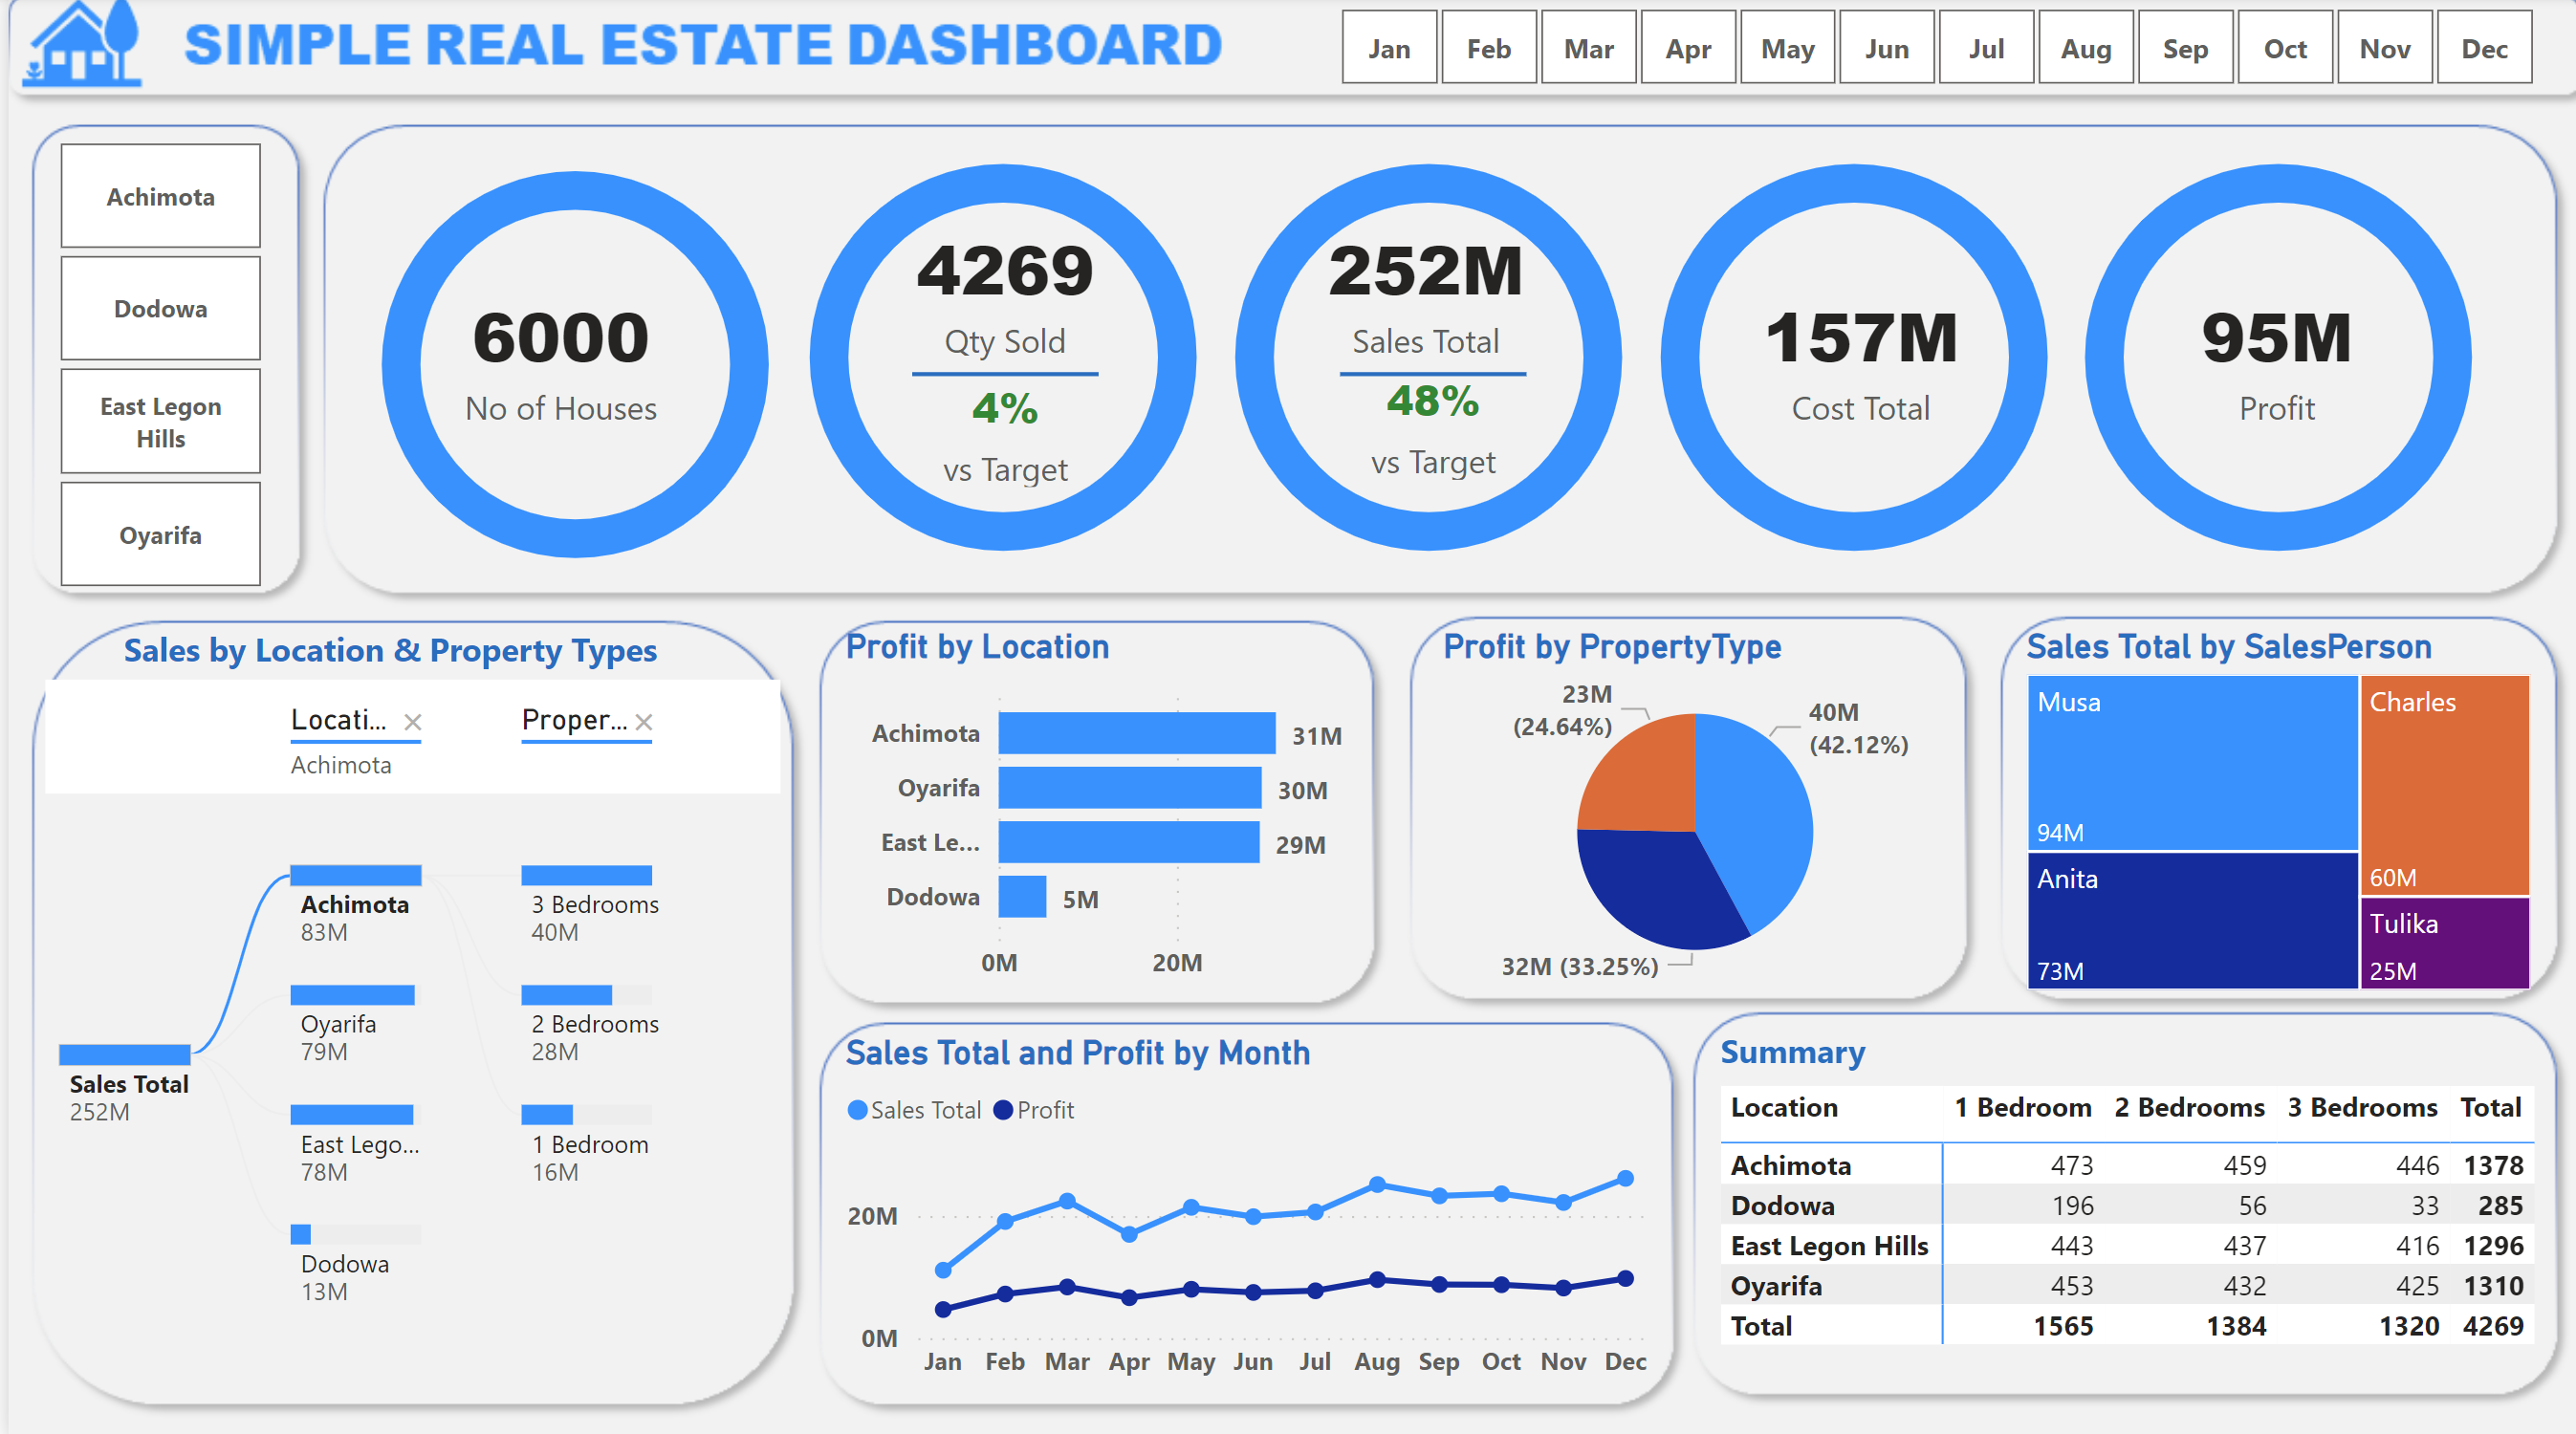

What the dashboard file says about the page in this screenshot:
{"tool":"powerbi","page":{"name":"Page 1","canvas":[1280,720],"ordinal":0},"visuals":[{"type":"slicer","fields":{"Values":["Location.Location"]},"box":[8.5,66.6,144.6,235.3],"z":0},{"type":"slicer","fields":{"Values":["Calender.Month"]},"box":[612.9,0,667.1,47.4],"z":1000},{"type":"donutChart","fields":{"Y":["All Measures.No of Houses"]},"box":[141.7,48.2,282,265],"z":2000},{"type":"card","fields":{"Values":["All Measures.No of Houses"]},"box":[147.4,56.7,260.8,238.1],"z":3000},{"type":"donutChart","fields":{"Y":["All Measures.Qty Sold","All Measures.Qty to Target"]},"box":[358.6,46.8,282,265],"z":4000},{"type":"donutChart","fields":{"Y":["All Measures.Sales Total","All Measures.Sales to Target"]},"box":[575.9,44.6,282.2,266.4],"z":5000},{"type":"donutChart","fields":{"Y":["All Measures.No of Houses"]},"box":[783.8,48.2,282,265],"z":6000},{"type":"donutChart","fields":{"Y":["All Measures.No of Houses"]},"box":[998,52.4,282,265],"z":7000},{"type":"card","fields":{"Values":["All Measures.Qty Sold"]},"box":[368.6,40.3,260.6,185.7],"z":8000},{"type":"card","fields":{"Values":["All Measures.% of Qty Target"]},"box":[433.4,169.9,129.6,90.7],"z":10000},{"type":"shape","box":[433.4,44.6,123.8,264.9],"z":11000},{"type":"card","fields":{"Values":["All Measures.Sales Total"]},"box":[639.2,69.4,155.9,147.4],"z":12000},{"type":"card","fields":{"Values":["All Measures.% of Sales to Target"]},"box":[655.1,169.9,129.6,90.7],"z":13000},{"type":"shape","box":[655.1,51.8,123.8,264.9],"z":14000},{"type":"card","fields":{"Values":["All Measures.Cost Total"]},"box":[794.8,51.8,260.6,239],"z":15000},{"type":"card","fields":{"Values":["All Measures.Profit"]},"box":[1007.9,51.8,260.6,239],"z":16000},{"type":"decompositionTreeVisual","title":"Sales by Location and PropertyType","fields":{"Analyze":["All Measures.Sales Total"],"ExplainBy":["Location.Location","PropertyType.PropertyType"]},"box":[20.2,316.8,370,403.1],"z":17000},{"type":"clusteredBarChart","fields":{"Y":["All Measures.Profit"],"Category":["Location.Location"]},"box":[407.5,311,262,184.3],"z":17001},{"type":"pieChart","fields":{"Y":["All Measures.Profit"],"Category":["PropertyType.PropertyType"]},"box":[717,309.6,262,185.7],"z":17002},{"type":"treemap","fields":{"Values":["All Measures.Sales Total"],"Group":["SalesPerson.SalesPerson"]},"box":[1006.4,311,262,184.3],"z":17003},{"type":"lineChart","fields":{"Y":["All Measures.Sales Total","All Measures.Profit"],"Category":["Calender.Month"]},"box":[407.5,518.3,421.9,181.4],"z":17004},{"type":"pivotTable","title":"Summary","fields":{"Rows":["Location.Location"],"Columns":["PropertyType.PropertyType"],"Values":["All Measures.Qty Sold"]},"box":[846.6,508.3,416.1,180],"z":17005}]}

Visuals, with their boxes in screenshot pixels (x1, y1, x2, y2), scaled from the page's 1280x720 canvas onto the 2576x1434 screenshot:
slicer - Location.Location: <box>17,133,308,601</box>
slicer - Calender.Month: <box>1233,0,2575,95</box>
donutChart - All Measures.No of Houses: <box>285,96,853,623</box>
card - All Measures.No of Houses: <box>296,113,821,587</box>
donutChart - All Measures.Qty Sold x All Measures.Qty to Target: <box>722,94,1289,621</box>
donutChart - All Measures.Sales Total x All Measures.Sales to Target: <box>1159,89,1727,619</box>
donutChart - All Measures.No of Houses: <box>1578,96,2145,623</box>
donutChart - All Measures.No of Houses: <box>2008,104,2575,632</box>
card - All Measures.Qty Sold: <box>742,80,1266,450</box>
card - All Measures.% of Qty Target: <box>872,338,1133,519</box>
shape: <box>872,89,1122,617</box>
card - All Measures.Sales Total: <box>1286,139,1600,432</box>
card - All Measures.% of Sales to Target: <box>1319,338,1580,519</box>
shape: <box>1319,103,1567,631</box>
card - All Measures.Cost Total: <box>1600,103,2124,579</box>
card - All Measures.Profit: <box>2028,103,2553,579</box>
"Sales by Location and PropertyType" decompositionTreeVisual: <box>41,631,785,1433</box>
clusteredBarChart - All Measures.Profit x Location.Location: <box>820,619,1347,987</box>
pieChart - All Measures.Profit x PropertyType.PropertyType: <box>1443,617,1970,987</box>
treemap - All Measures.Sales Total x SalesPerson.SalesPerson: <box>2025,619,2553,987</box>
lineChart - All Measures.Sales Total x All Measures.Profit: <box>820,1032,1670,1394</box>
"Summary" pivotTable: <box>1704,1012,2542,1371</box>
